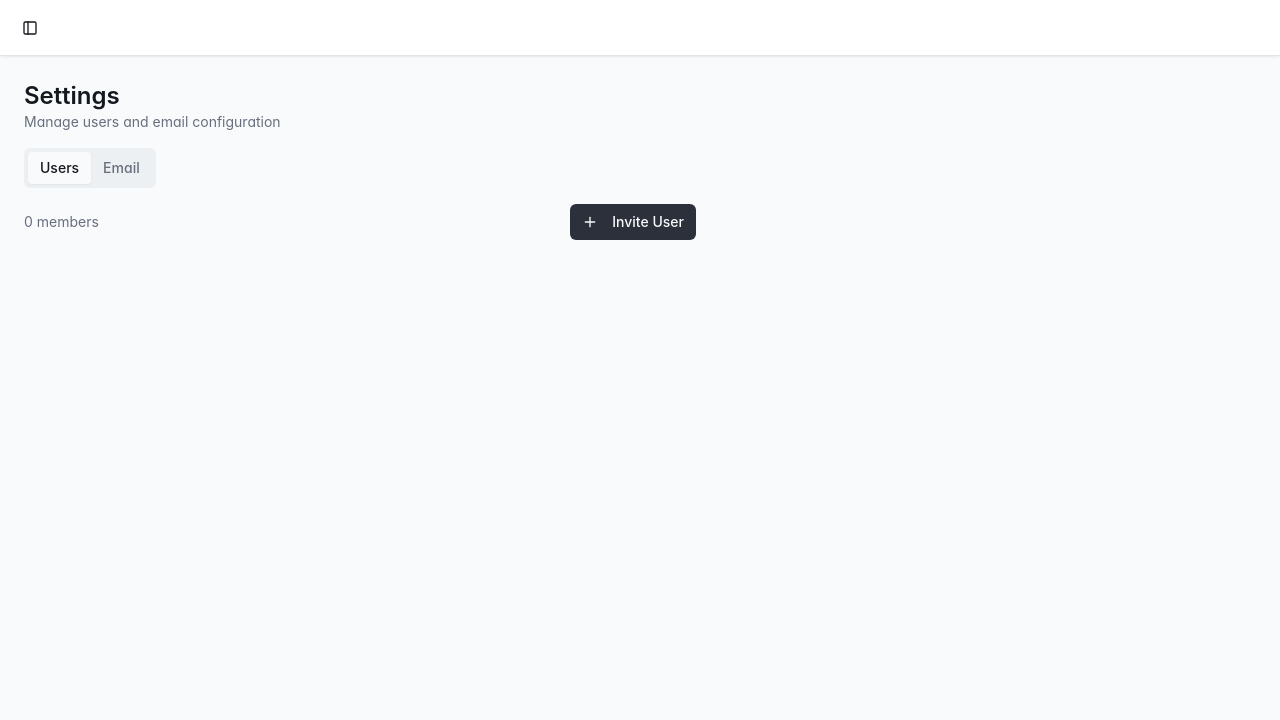
Test: Settings page › displays Brevo fields when Email tab clicked
The width and height of the screenshot is (1280, 720).
Step 1. Click the tab "Email" → (121, 168), box [91, 152, 152, 184]
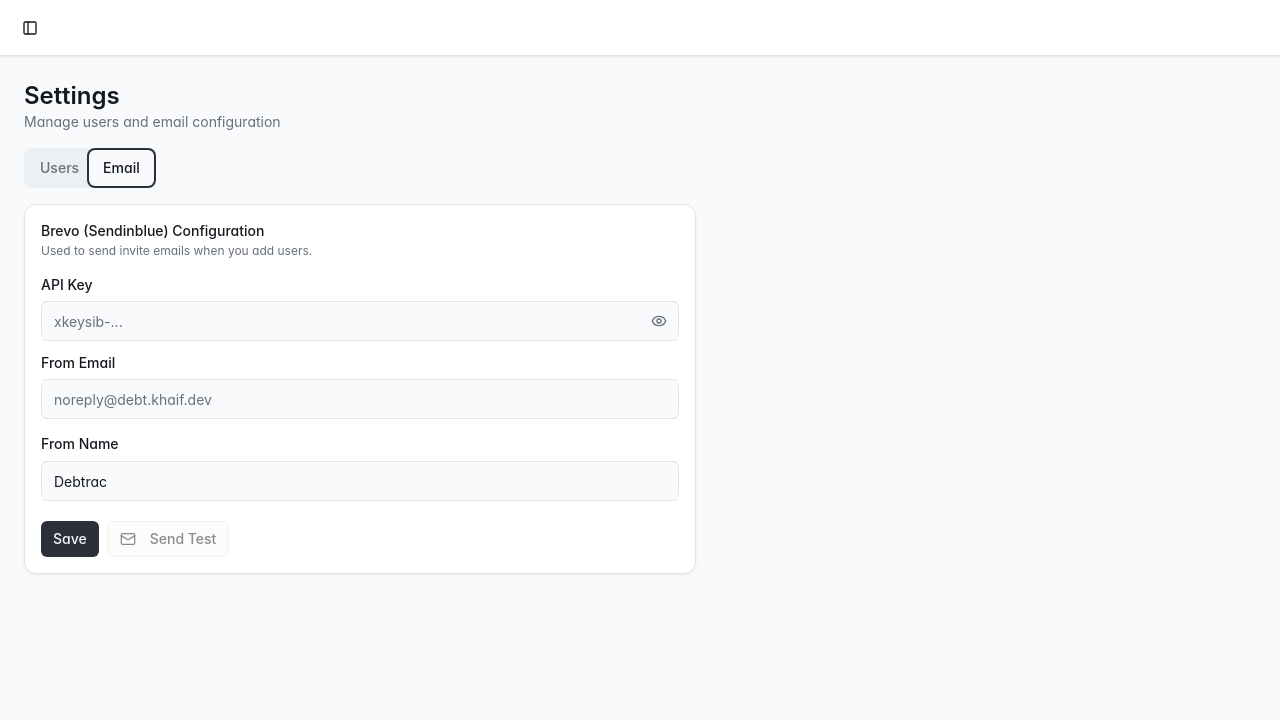
Check: the password field labelled "API Key" is shown, box [41, 301, 679, 341]
Check: the field labelled "From Email" is shown, box [41, 379, 679, 419]
Check: the field labelled "From Name" is shown, box [41, 461, 679, 501]
